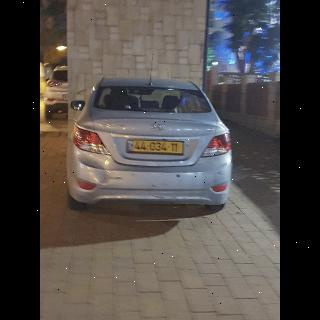LicensePlate: (133, 140, 182, 153)
